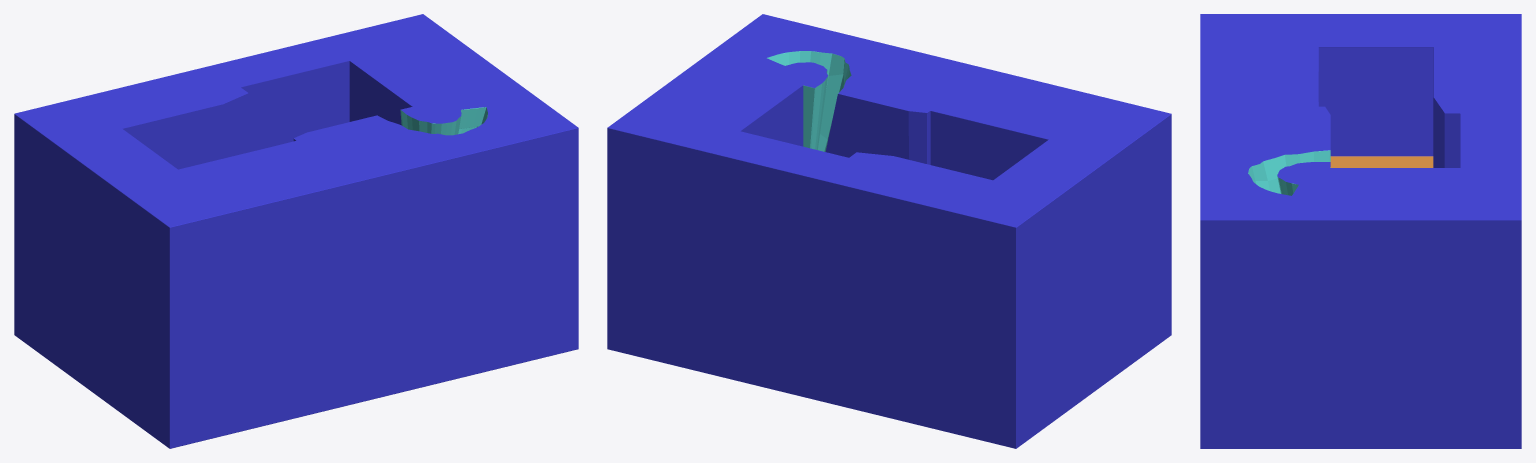
Rendered from full_arena.glb.
3 views of the same model, side by side, from view 1: azimuth 30°, elevation 25°; view 2: azimuth 150°, elevation 25°; view 3: azimuth 270°, elevation 25° (orthographic). The views are drawn at different scales.
Parts seen in each view (by area): view 1: Cube; view 2: Cube; view 3: Cube.
Part boxes in pixels (bbox=[...]): Cube: bbox=[14, 14, 578, 448]; Cube: bbox=[607, 14, 1171, 448]; Cube: bbox=[1200, 14, 1521, 448].
Bounding box in the file's own units: 147 × 76 × 96.77.
